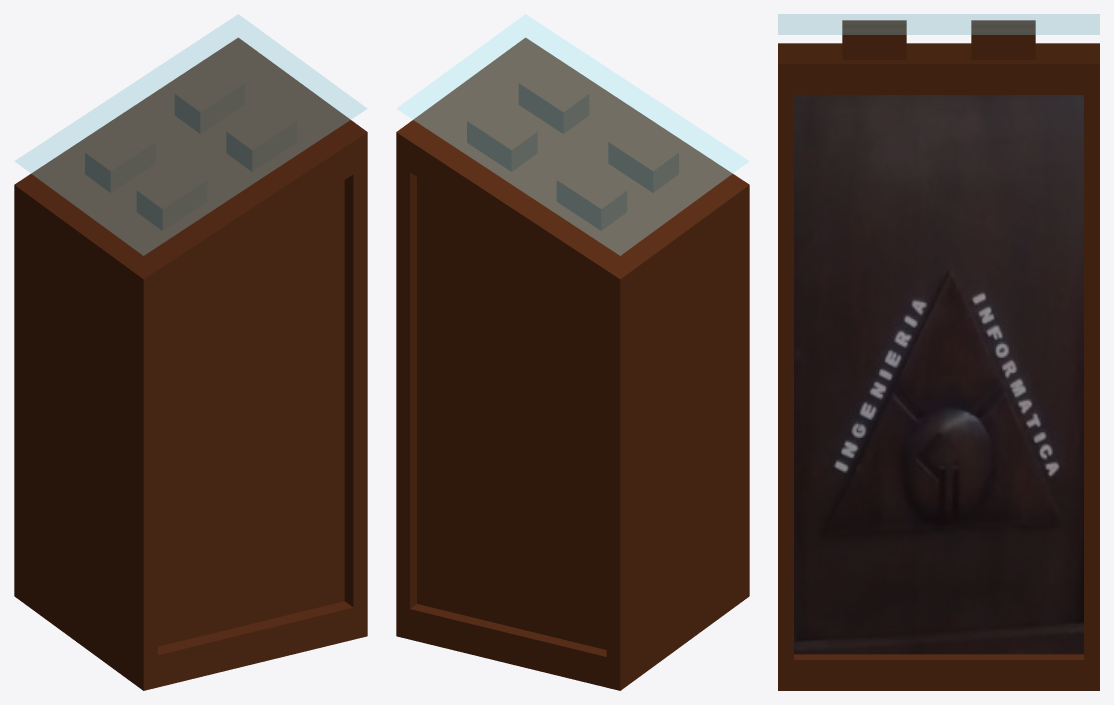
File: atrilVidrio.glb
3 views of the same model, side by side, from view 1: azimuth 30°, elevation 25°; view 2: azimuth 150°, elevation 25°; view 3: azimuth 270°, elevation 25° (orthographic). The views are drawn at different scales.
Visible parts, largest first — view 1: Cube001, Cube001_2; view 2: Cube001, Cube001_2; view 3: Cube001_1, Cube001, Cube001_2.
Boxes of the visible parts, x1,y1,x2,y2 form: Cube001: (14,37,367,690); Cube001_2: (15,14,366,255); Cube001: (396,37,749,690); Cube001_2: (397,14,748,255); Cube001_1: (794,95,1083,654); Cube001: (778,20,1099,690); Cube001_2: (778,14,1099,34).
Bounding box in the file's own units: 2 × 4.5 × 2.
3 materials, 1 textured.
